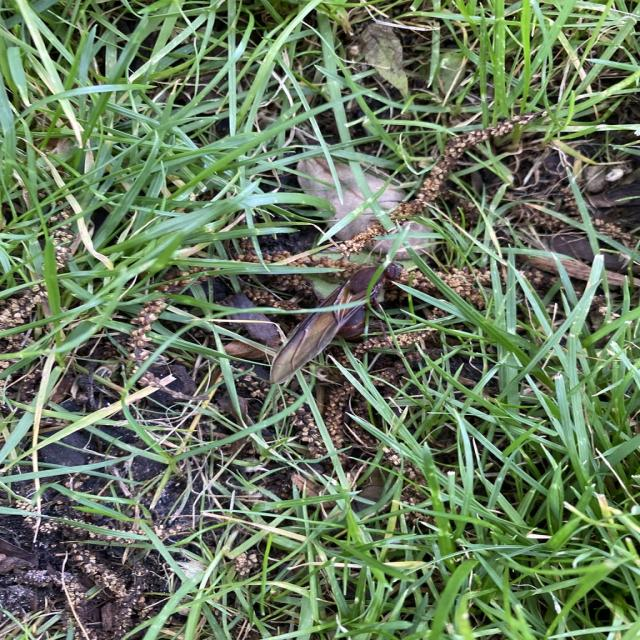Alive-Female-Alate: (269, 247, 430, 386)
